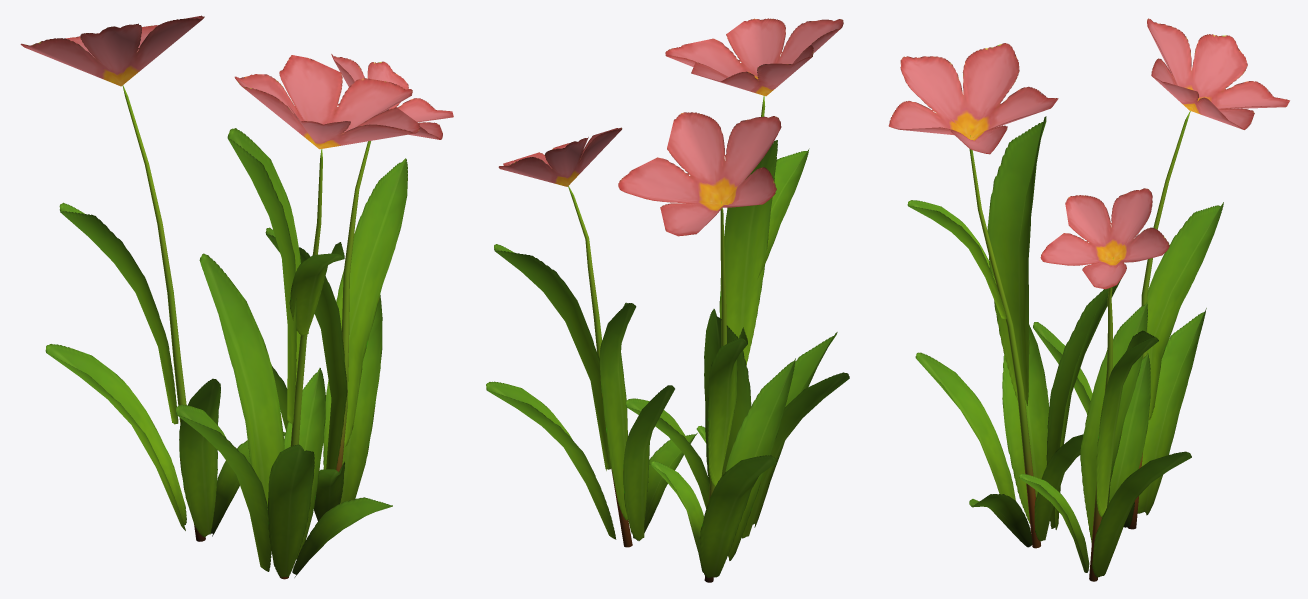
The model's file is flower1.glb.
The picture shows the model from 3 angles, left to right: view 1: azimuth 30°, elevation 25°; view 2: azimuth 150°, elevation 25°; view 3: azimuth 270°, elevation 25°; orthographic projection. The views are drawn at different scales.
Visible parts, largest first — view 1: Flower_3_Group; view 2: Flower_3_Group; view 3: Flower_3_Group.
Part boxes in pixels (box(x1,y1,x2,y2)): Flower_3_Group: box(20, 15, 453, 579); Flower_3_Group: box(486, 18, 849, 582); Flower_3_Group: box(888, 18, 1289, 581).
Size of the model in its own units: 1.49 by 2.05 by 1.59.
2 materials, 2 textured.
